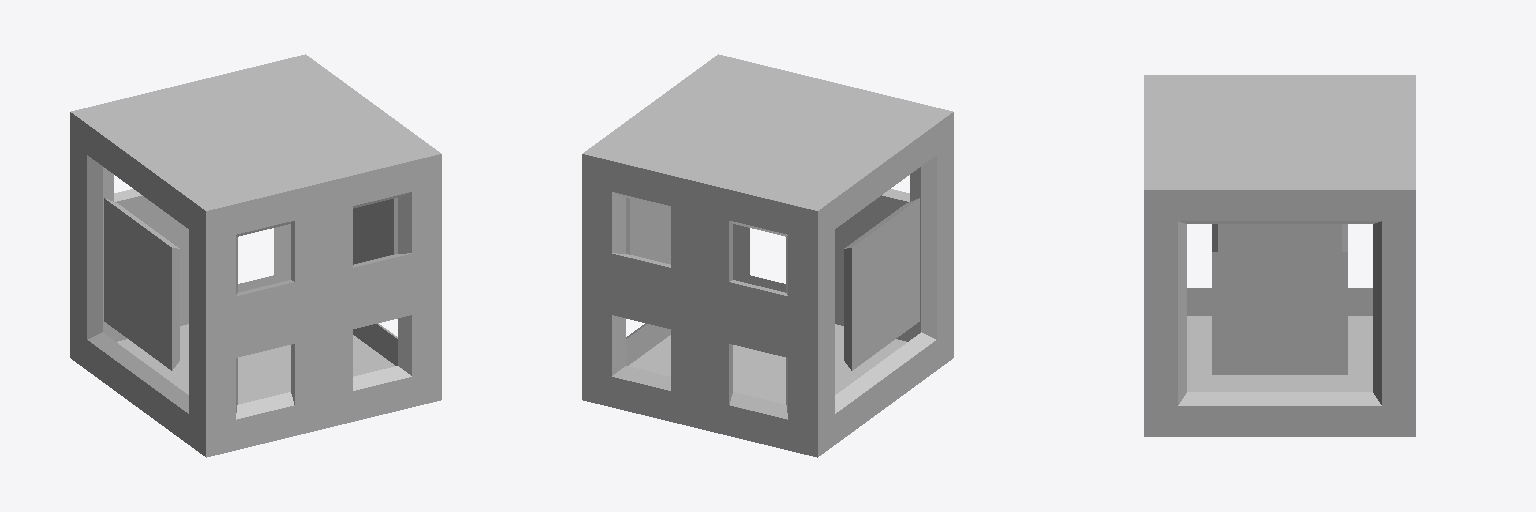
Rendered from StageEdit0301.obj.
3 renders of one model, left to right at view 1: azimuth 30°, elevation 25°; view 2: azimuth 150°, elevation 25°; view 3: azimuth 270°, elevation 25°, orthographic.
Parts seen in each view (by area): view 1: 立方体_立方体.002; view 2: 立方体_立方体.002; view 3: 立方体_立方体.002.
Boxes of the visible parts, x1,y1,x2,y2 form: 立方体_立方体.002: [70, 54, 441, 457]; 立方体_立方体.002: [582, 54, 953, 457]; 立方体_立方体.002: [1144, 75, 1415, 436].
Size of the model in its own units: 22 by 22 by 22.